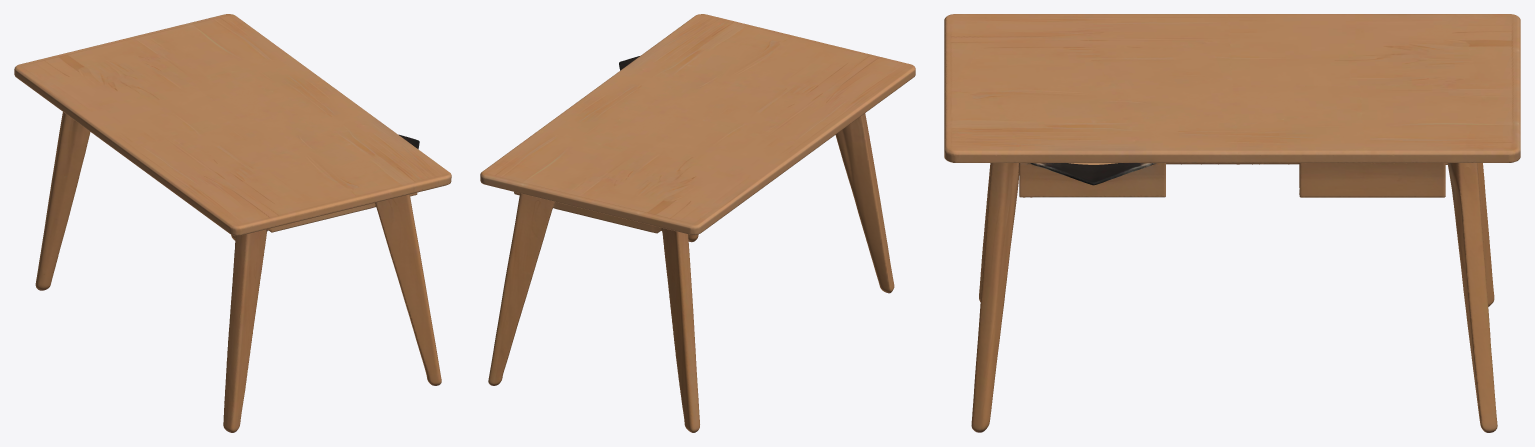
File: realistic_wooden_office_desk_02.glb
3 renders of one model, left to right at view 1: azimuth 30°, elevation 25°; view 2: azimuth 150°, elevation 25°; view 3: azimuth 270°, elevation 25°, orthographic. The views are drawn at different scales.
Parts seen in each view (by area): view 1: tripo_node_0e106a46-70eb-415c-8b1a-595f8db4ac4b; view 2: tripo_node_0e106a46-70eb-415c-8b1a-595f8db4ac4b; view 3: tripo_node_0e106a46-70eb-415c-8b1a-595f8db4ac4b.
Part boxes in pixels (bbox=[...]): tripo_node_0e106a46-70eb-415c-8b1a-595f8db4ac4b: bbox=[14, 14, 451, 432]; tripo_node_0e106a46-70eb-415c-8b1a-595f8db4ac4b: bbox=[480, 14, 915, 432]; tripo_node_0e106a46-70eb-415c-8b1a-595f8db4ac4b: bbox=[944, 14, 1520, 432].
Size of the model in its own units: 0.6284 by 0.5408 by 1.
1 material, 1 textured.
